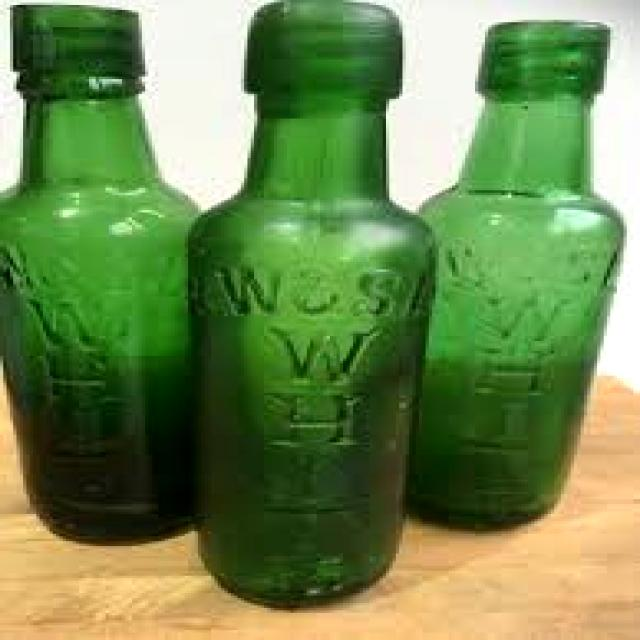Glass: (182, 0, 422, 606), (0, 0, 199, 546), (424, 15, 626, 534)
